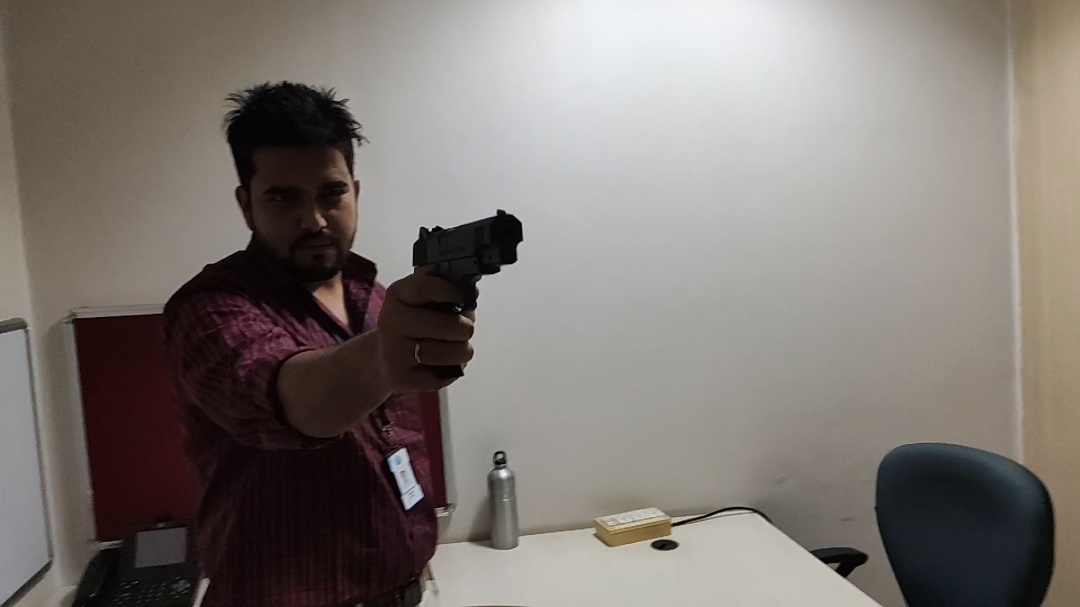gun: (406, 208, 531, 389)
